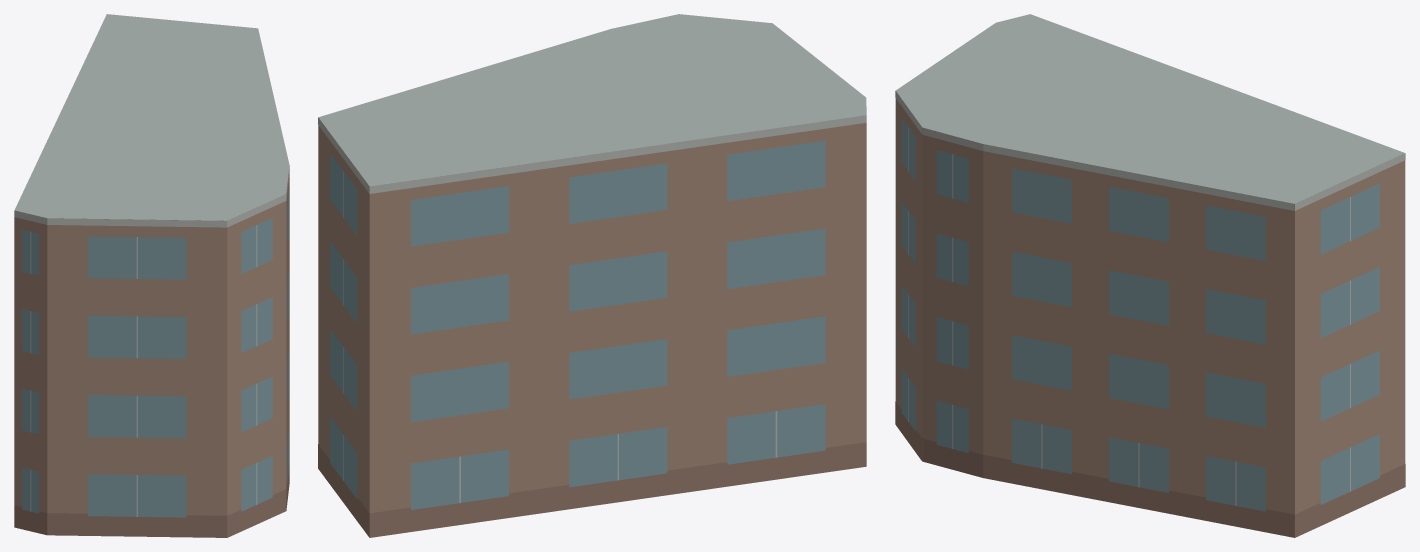
The model's file is survey-upis-32898972.glb.
3 views of the same model, side by side, from view 1: azimuth 30°, elevation 25°; view 2: azimuth 150°, elevation 25°; view 3: azimuth 270°, elevation 25° (orthographic). The views are drawn at different scales.
Visible parts, largest first — view 1: survey-upis-32898972.tmp; view 2: survey-upis-32898972.tmp; view 3: survey-upis-32898972.tmp.
Boxes of the visible parts, box(x1,y1,x2,y2) form: survey-upis-32898972.tmp: box(14, 14, 289, 537); survey-upis-32898972.tmp: box(318, 14, 866, 537); survey-upis-32898972.tmp: box(895, 14, 1405, 537).
Bounding box in the file's own units: 13.99 × 11.47 × 15.88.
